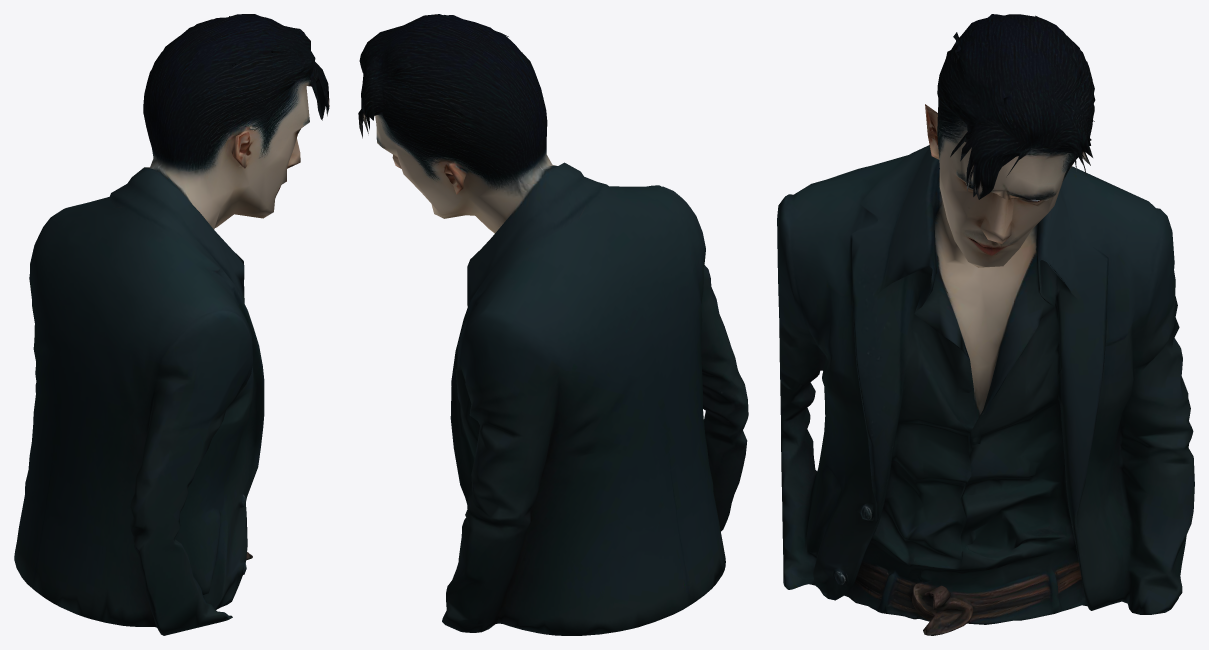
3 renders of one model, left to right at view 1: azimuth 30°, elevation 25°; view 2: azimuth 150°, elevation 25°; view 3: azimuth 270°, elevation 25°, orthographic. The views are drawn at different scales.
Parts seen in each view (by area): view 1: tripo_node_c9da877d-0144-42fd-96a8-51b53b2ef639; view 2: tripo_node_c9da877d-0144-42fd-96a8-51b53b2ef639; view 3: tripo_node_c9da877d-0144-42fd-96a8-51b53b2ef639.
Part boxes in pixels (x1,y1,x2,y2): tripo_node_c9da877d-0144-42fd-96a8-51b53b2ef639: [14, 14, 329, 635]; tripo_node_c9da877d-0144-42fd-96a8-51b53b2ef639: [358, 14, 748, 635]; tripo_node_c9da877d-0144-42fd-96a8-51b53b2ef639: [777, 14, 1194, 635].
Size of the model in its own units: 0.6049 by 0.9897 by 0.602.
Materials: 1 (1 with a texture image).
